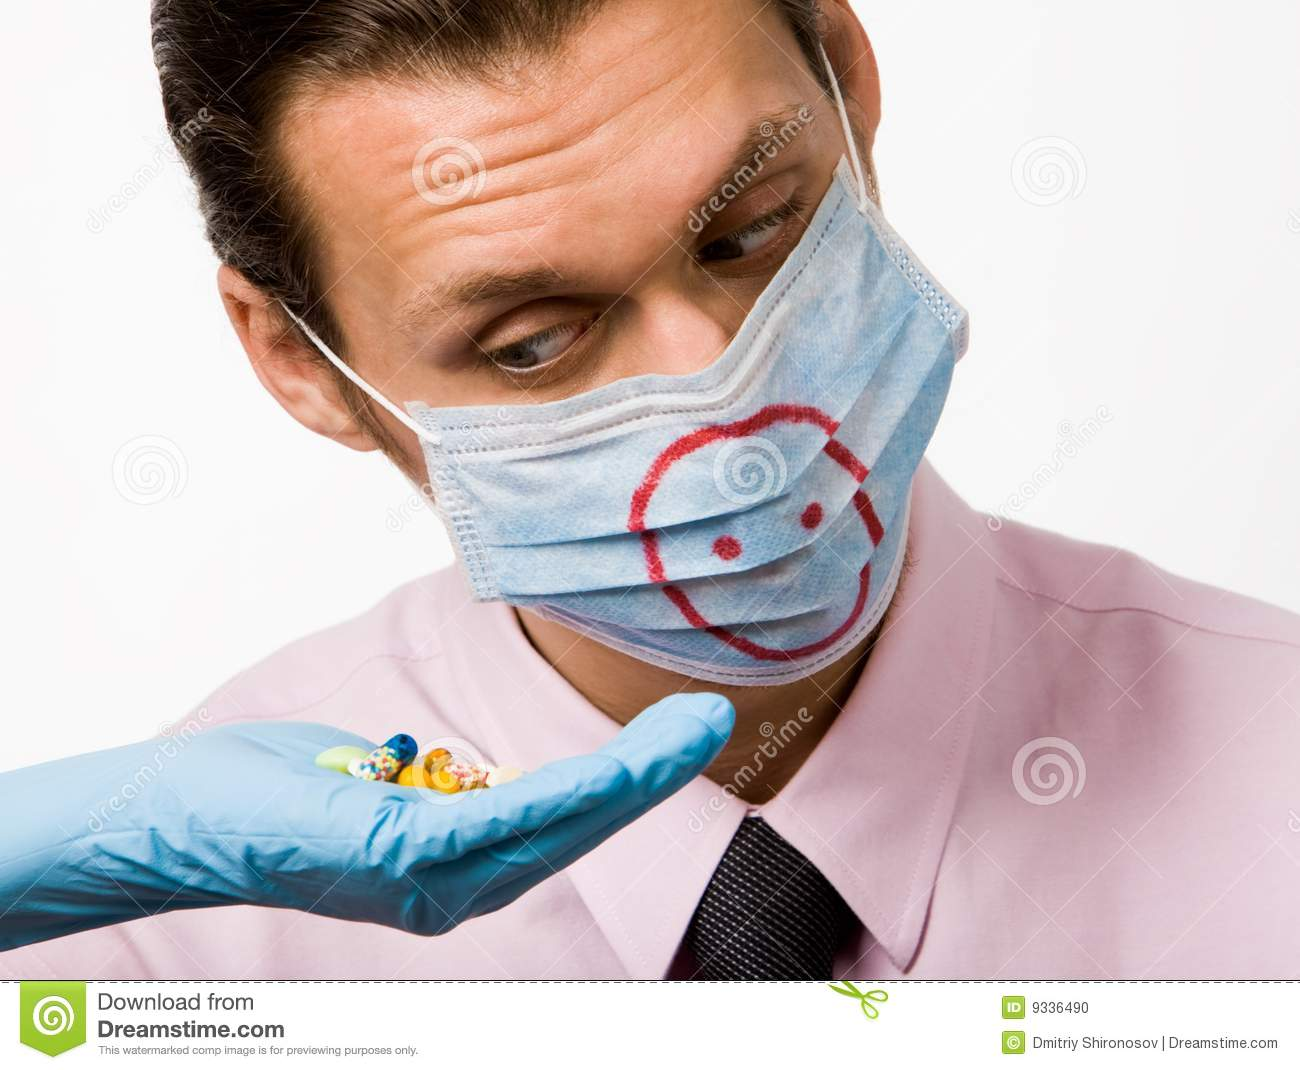mask: (416, 175, 974, 690)
